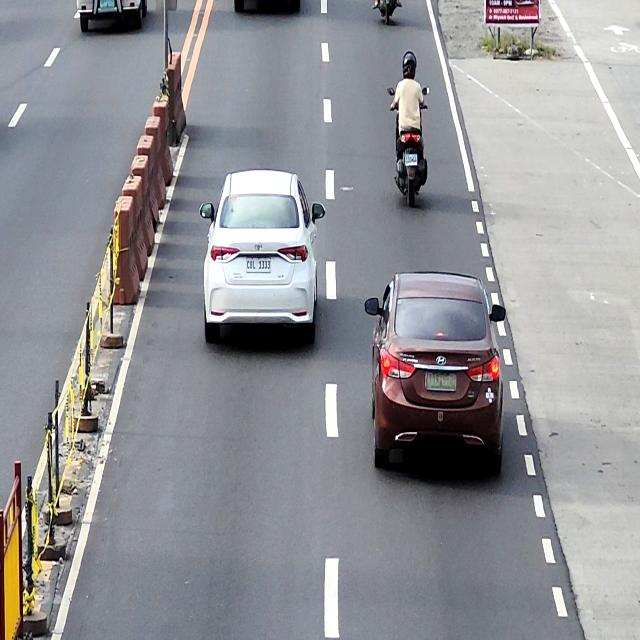Car: (364, 270, 506, 473), (199, 168, 325, 344)
License-Plate: (426, 370, 457, 392), (246, 255, 272, 274), (404, 152, 418, 166)
Motorcycle: (387, 85, 430, 207)
